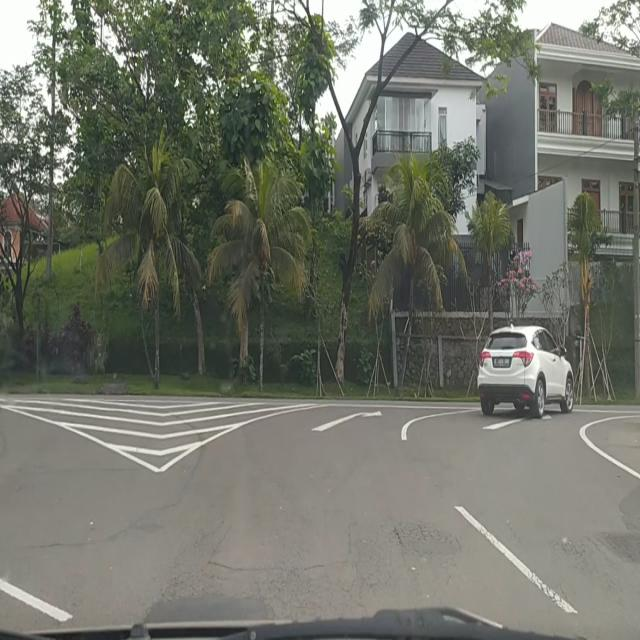Drain Hole: (242, 566, 370, 620), (388, 514, 460, 562)
